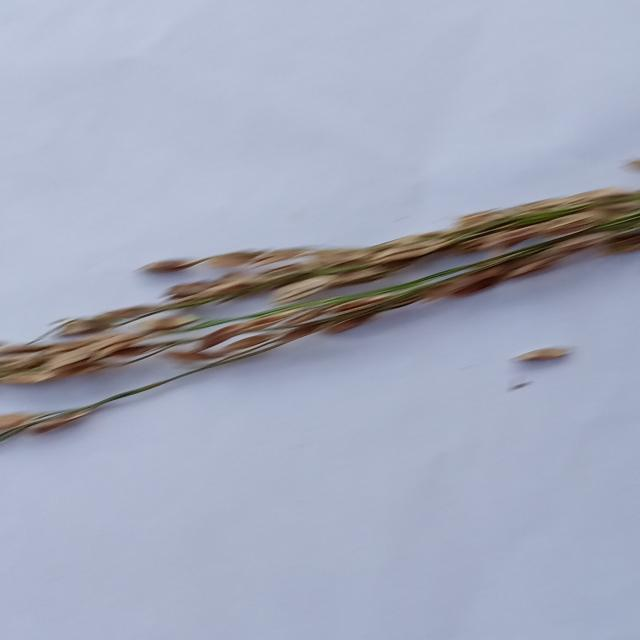Neck_Blast: (7, 192, 640, 378)
